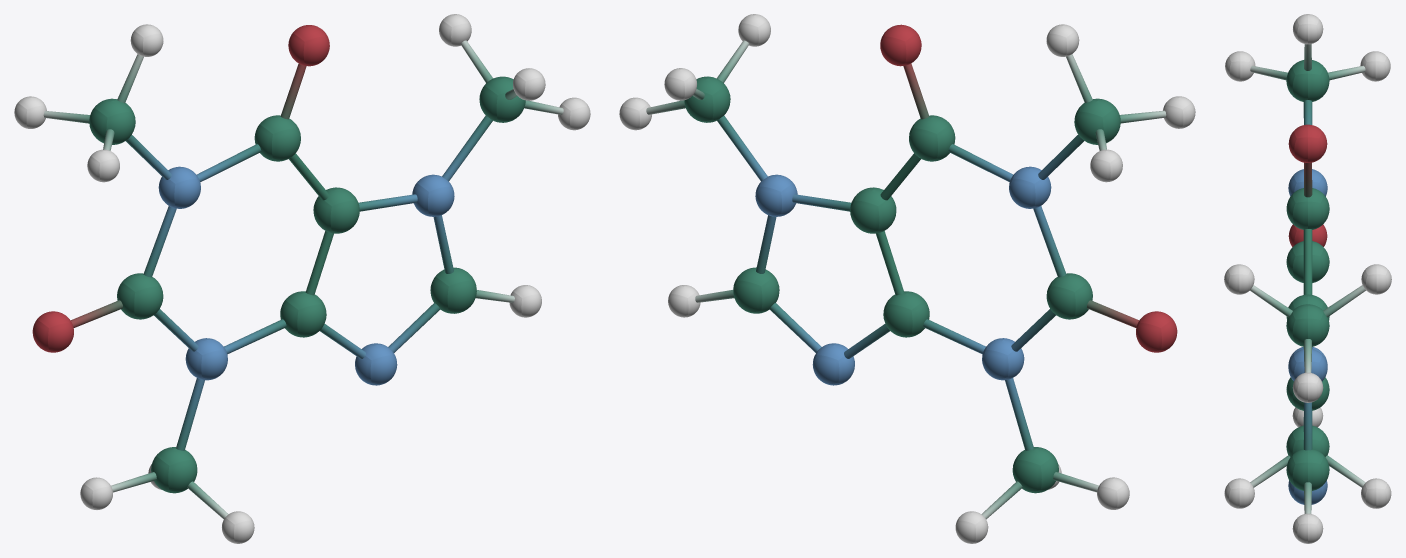
Rendered from Caffeine.fbx.
3 renders of one model, left to right at view 1: azimuth 30°, elevation 25°; view 2: azimuth 150°, elevation 25°; view 3: azimuth 270°, elevation 25°, orthographic. The views are drawn at different scales.
Parts seen in each view (by area): view 1: curMeshHyperballExportedMesh; view 2: curMeshHyperballExportedMesh; view 3: curMeshHyperballExportedMesh.
Boxes of the visible parts, x1,y1,x2,y2 form: curMeshHyperballExportedMesh: (14,14,590,543); curMeshHyperballExportedMesh: (619,14,1195,543); curMeshHyperballExportedMesh: (1224,14,1391,543).
Bounding box in the file's own units: 7.78 × 6.76 × 2.2.
